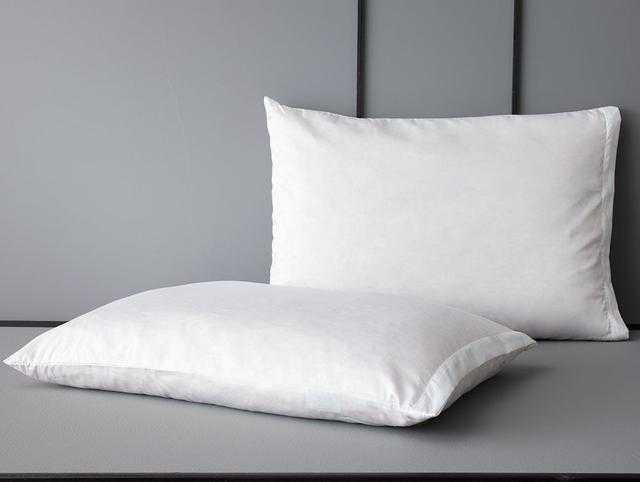pillow: (262, 95, 630, 341), (1, 278, 538, 426)
